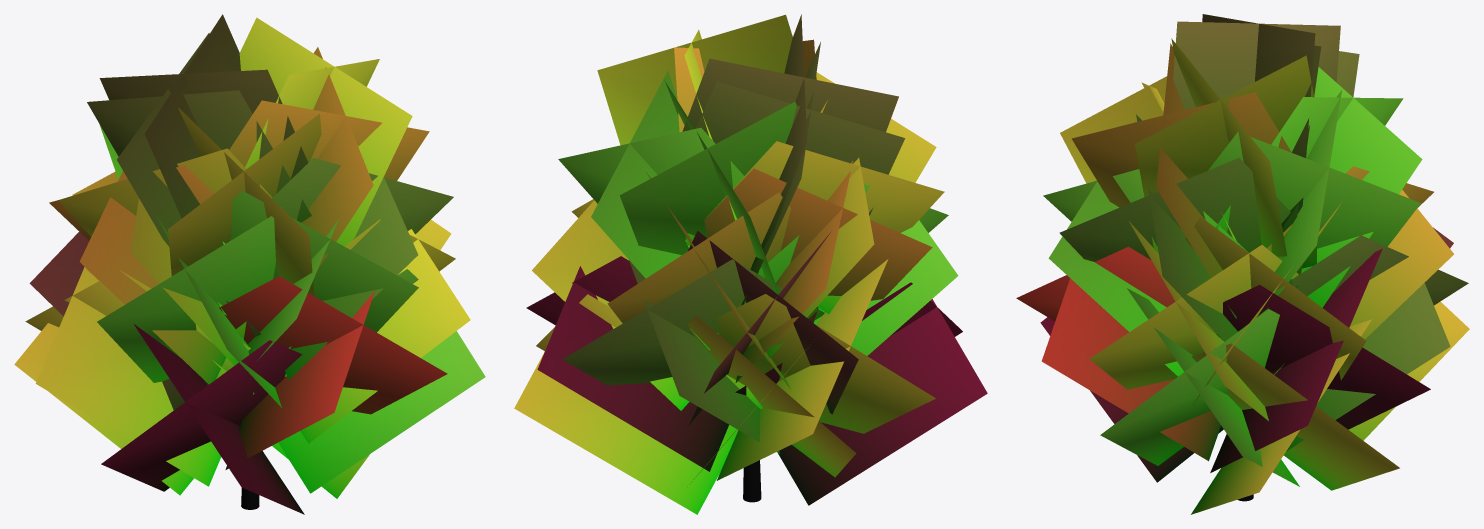
The model's file is Tree_1.fbx.
3 views of the same model, side by side, from view 1: azimuth 30°, elevation 25°; view 2: azimuth 150°, elevation 25°; view 3: azimuth 270°, elevation 25° (orthographic).
Visible parts, largest first — view 1: Tree_1; view 2: Tree_1; view 3: Tree_1.
Part boxes in pixels (x1,y1,x2,y2): Tree_1: [14, 14, 485, 514]; Tree_1: [514, 14, 987, 514]; Tree_1: [1016, 14, 1469, 514].
Size of the model in its own units: 1079 by 1172 by 1030.
